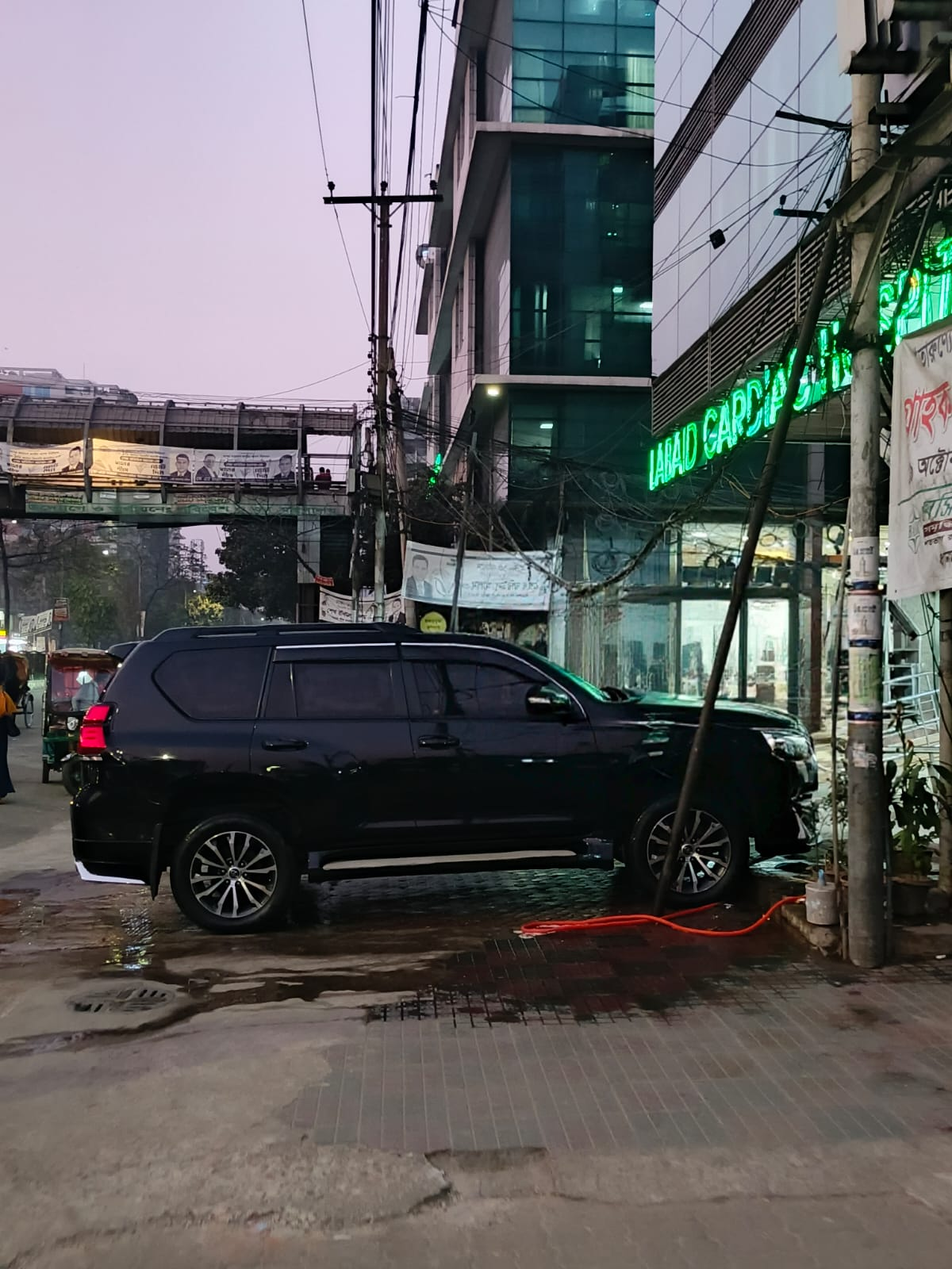auto-ricksaw: (37, 601, 123, 784)
private car: (71, 521, 831, 984)
